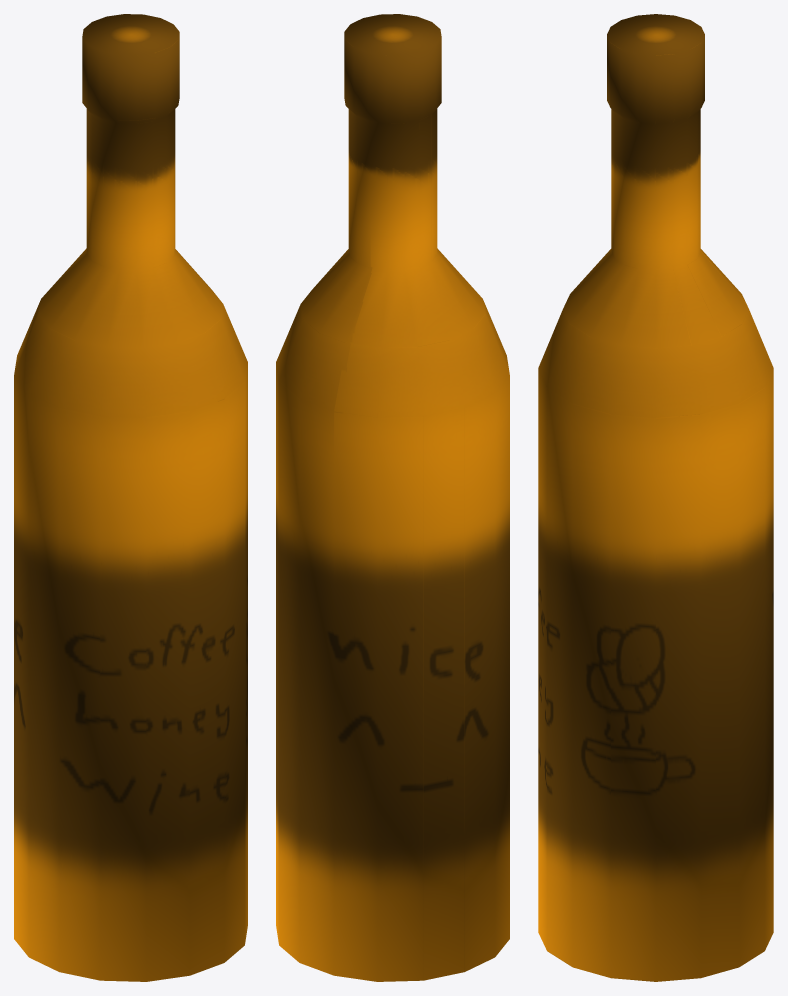
The model's file is wine5.fbx.
The picture shows the model from 3 angles, left to right: view 1: azimuth 30°, elevation 25°; view 2: azimuth 150°, elevation 25°; view 3: azimuth 270°, elevation 25°; orthographic projection.
Parts seen in each view (by area): view 1: wine5low; view 2: wine5low; view 3: wine5low.
Boxes of the visible parts, x1,y1,x2,y2 form: wine5low: (14, 14, 247, 981); wine5low: (276, 14, 509, 981); wine5low: (538, 14, 773, 981).
Bounding box in the file's own units: 0.0693 × 0.0693 × 0.291.
Materials: 1 (1 with a texture image).
